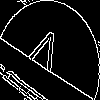V: (25, 25, 63, 81)
